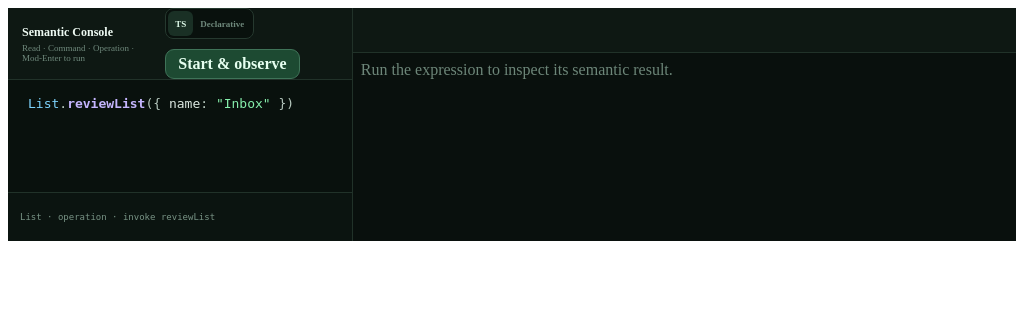
Console actions › still notifies the host when terminal durable inspection fails
The width and height of the screenshot is (1024, 323).
Click the button "Start & observe": click(232, 64) [165, 49, 300, 79]
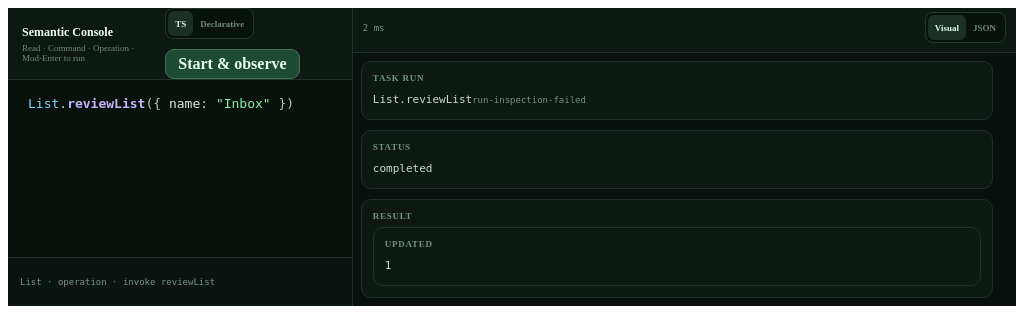
Now the text "completed" is shown, box [373, 162, 432, 175]
